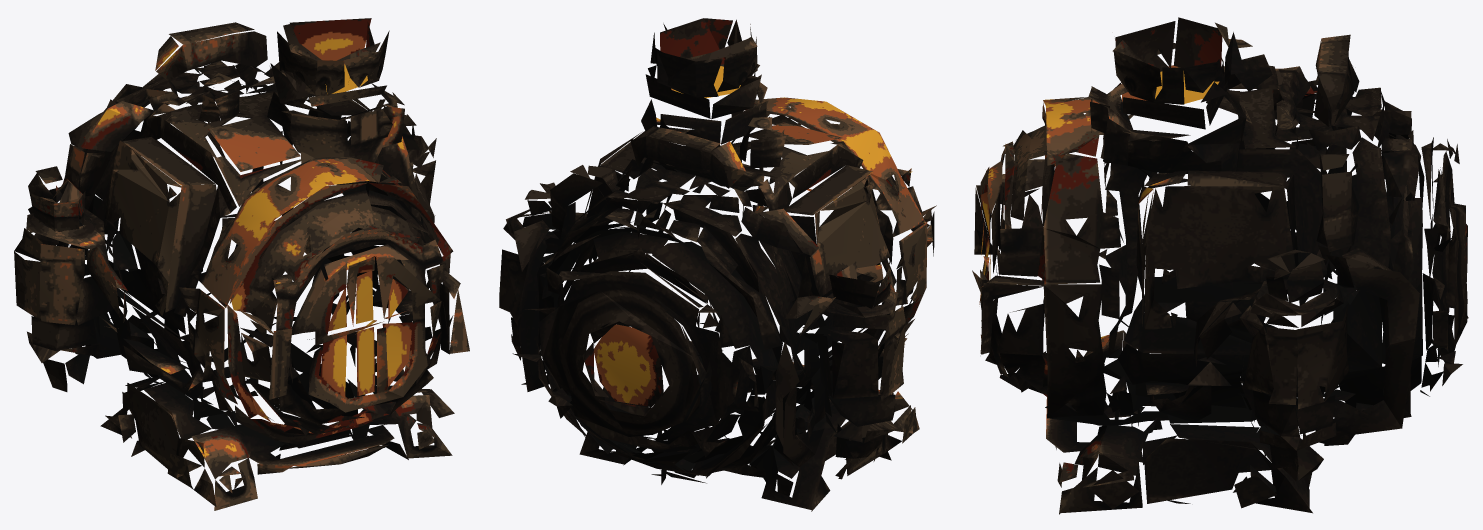
Rendered from co_ember.glb.
The picture shows the model from 3 angles, left to right: view 1: azimuth 30°, elevation 25°; view 2: azimuth 150°, elevation 25°; view 3: azimuth 270°, elevation 25°; orthographic projection. The views are drawn at different scales.
Visible parts, largest first — view 1: co_ember; view 2: co_ember; view 3: co_ember.
Part boxes in pixels (x1,y1,x2,y2): co_ember: (14,18,469,510); co_ember: (499,18,936,511); co_ember: (972,17,1468,514).
Bounding box in the file's own units: 0.13 × 0.1241 × 0.1254.
Materials: 1 (1 with a texture image).
